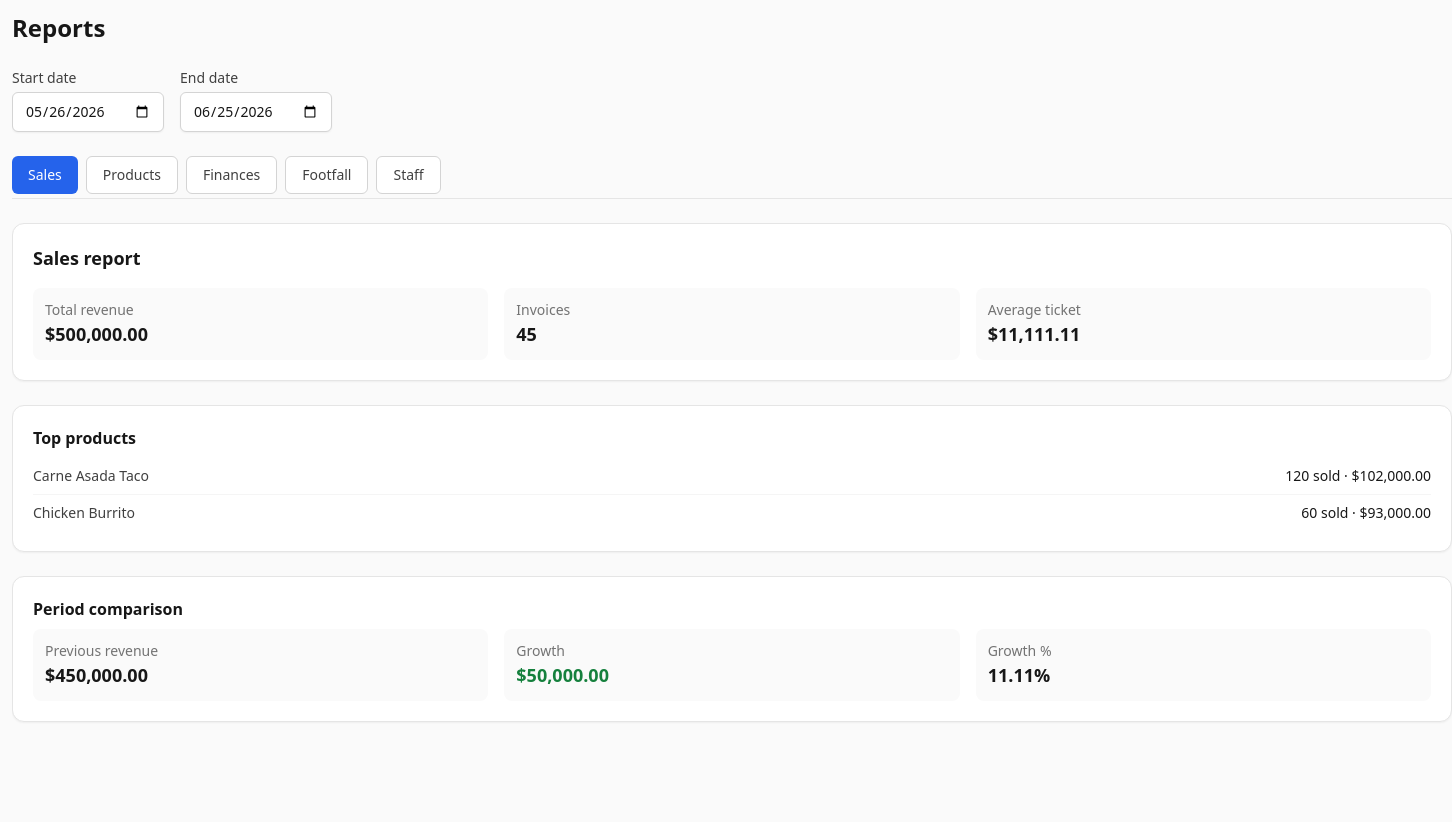
Test: ReportsPage › switches report tabs and renders selected report
The width and height of the screenshot is (1452, 822).
Expected: the heading "Sales report" is shown, [33,246,140,270]
Click the button "Products" at (132,175), box [86,156,178,194]
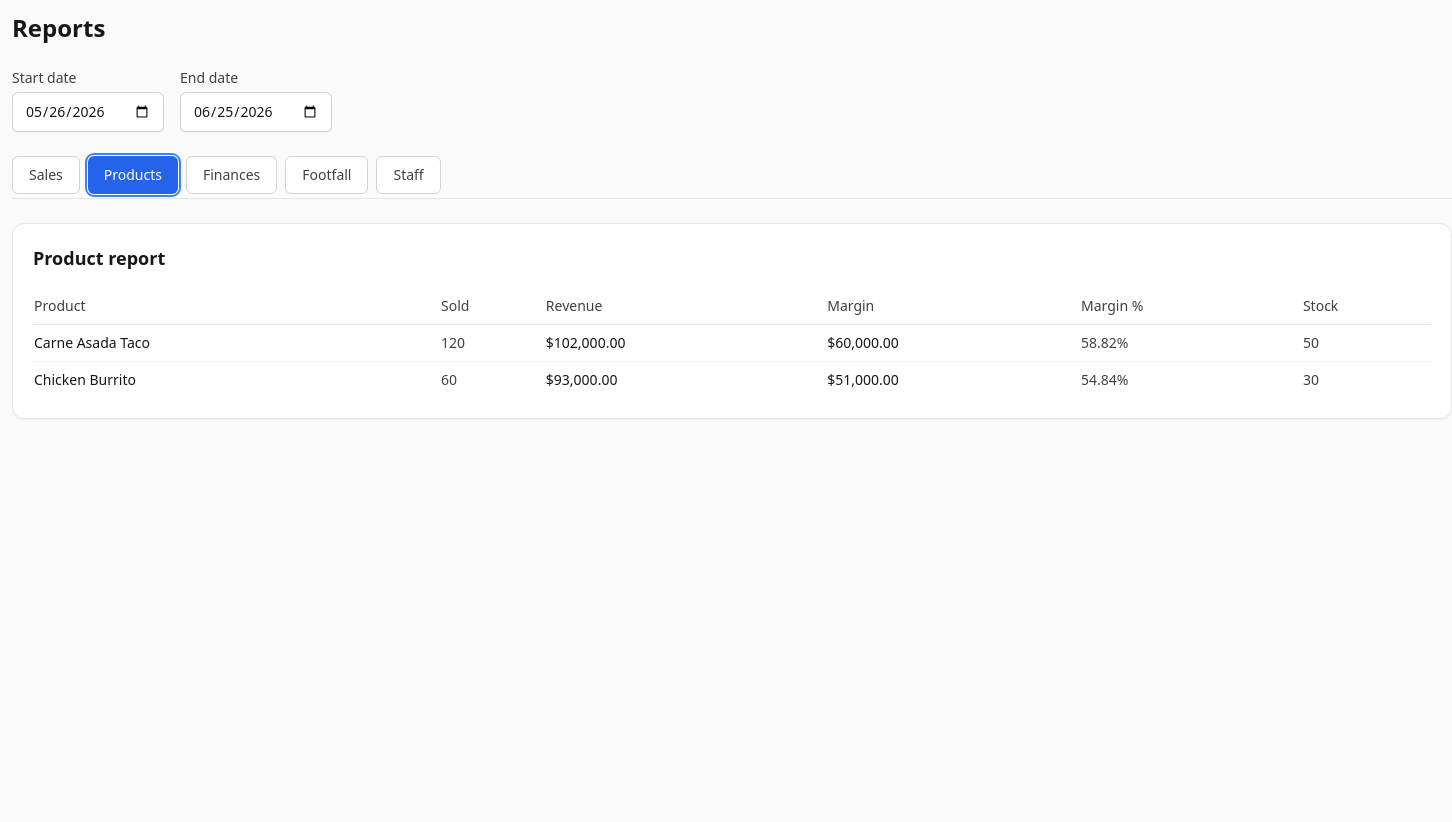
Expected: the heading "Product report" is shown, [33,246,165,270]
